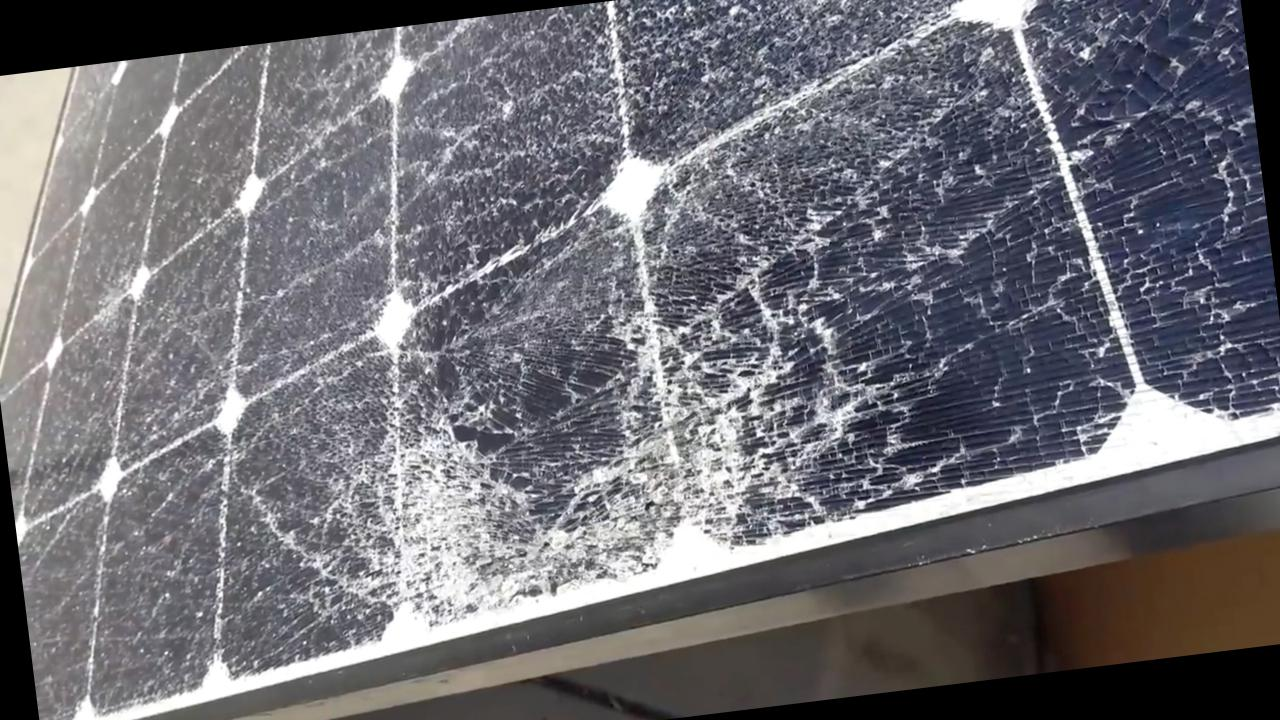Crack: (308, 302, 908, 641), (621, 0, 1255, 252), (264, 9, 638, 353)
